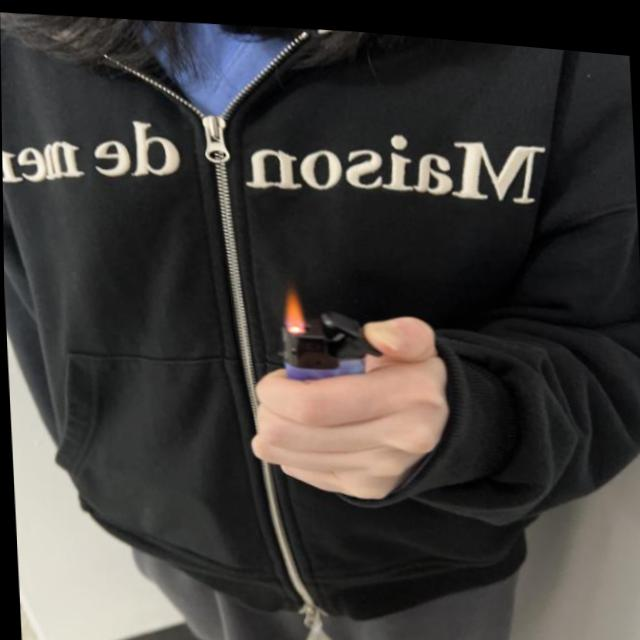Fire: (273, 279, 310, 330)
